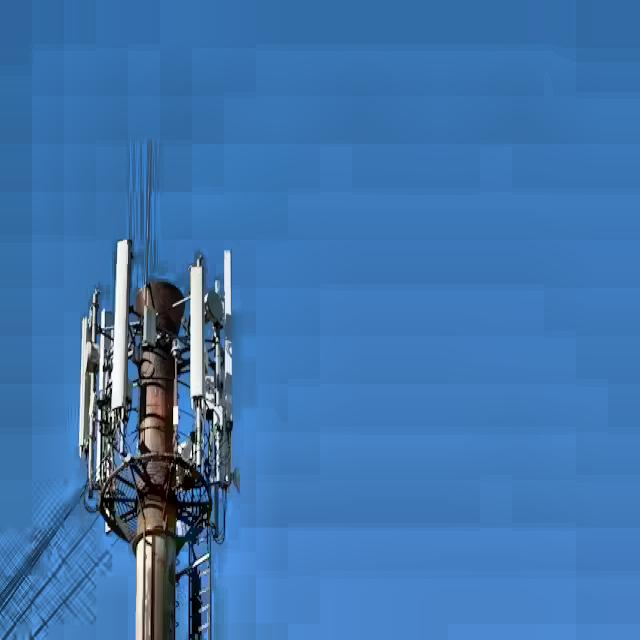antenna: (111, 240, 130, 409), (79, 290, 98, 458), (190, 256, 204, 397), (223, 249, 232, 430)
